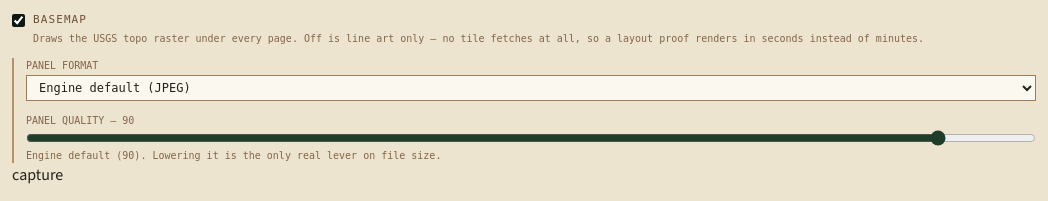
Test: BasemapOptions reaches the request › hides the encoder controls when there is nothing to encode
What coordinates should you click on to do the following:
click the checkbox labelled "Basemap"
I would click on:
 (18, 20)
Its box is [12,14,25,27].
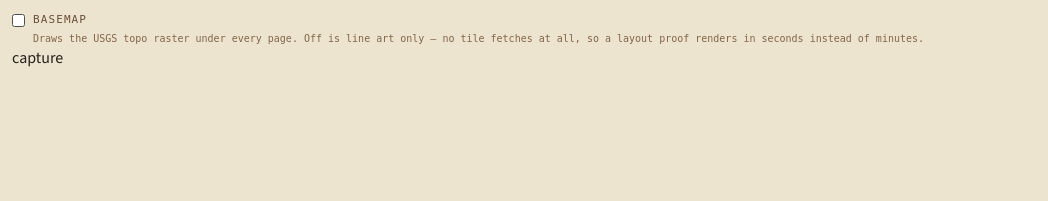
Check: the label labelled "Panel format" is gone
Check: the label labelled "Panel quality" is gone
